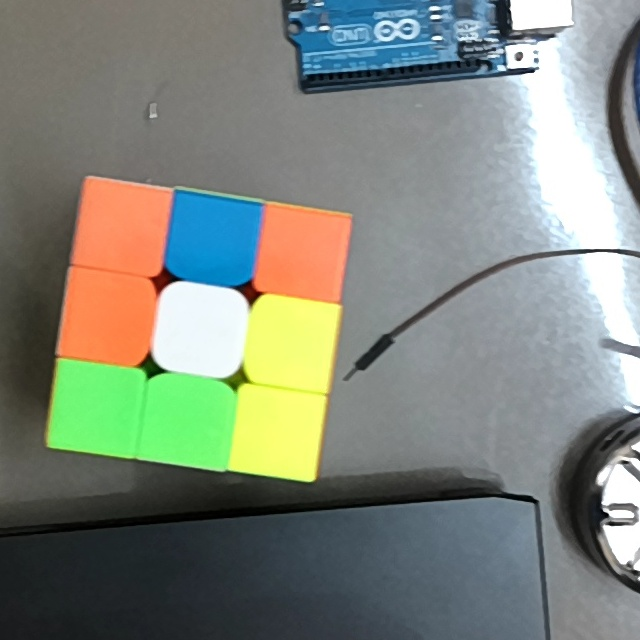tile: (70, 280, 142, 355), (86, 191, 158, 264), (58, 373, 134, 442), (152, 386, 222, 458), (243, 398, 312, 470), (258, 308, 329, 377), (269, 219, 339, 288), (164, 296, 232, 365), (178, 208, 248, 275)
